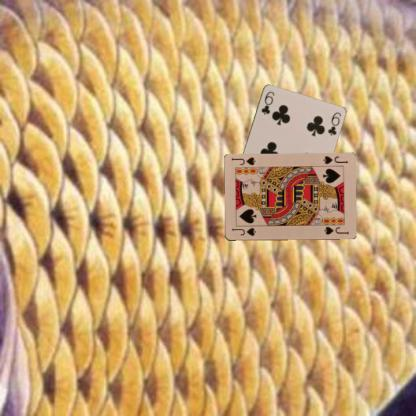6c: (258, 88, 276, 116)
Js: (229, 226, 257, 237), (320, 154, 348, 165)
